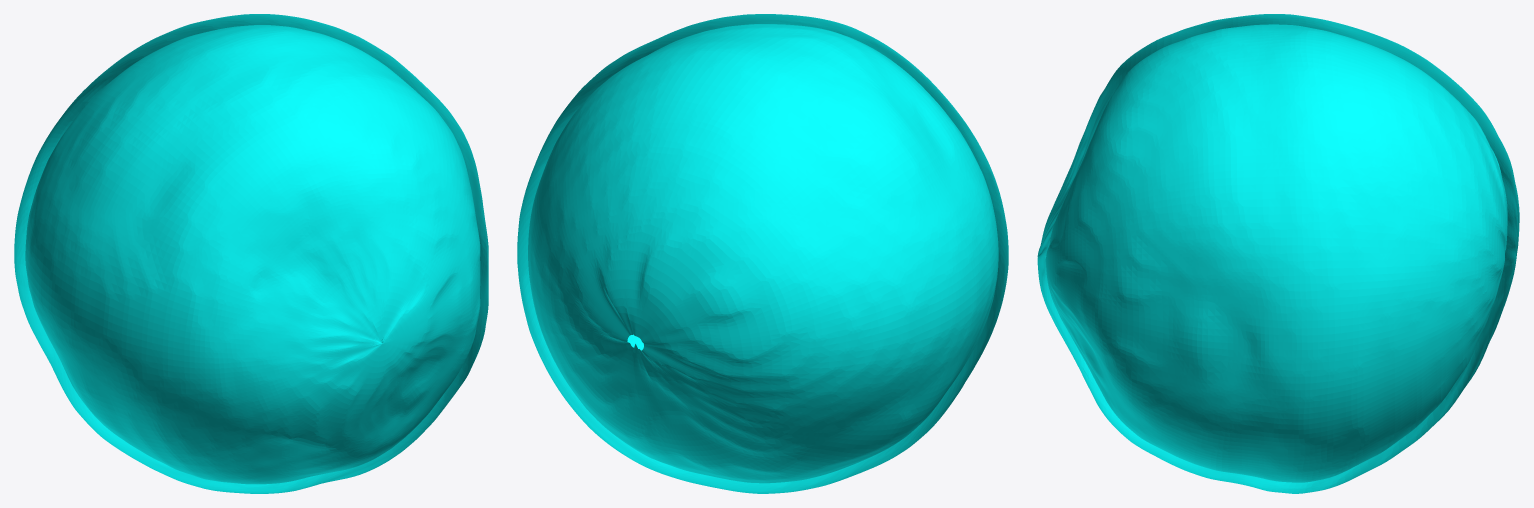
3 renders of one model, left to right at view 1: azimuth 30°, elevation 25°; view 2: azimuth 150°, elevation 25°; view 3: azimuth 270°, elevation 25°, orthographic.
Visible parts, largest first — view 1: Renderer Node; view 2: Renderer Node; view 3: Renderer Node.
Part boxes in pixels (x1=…): Renderer Node: x1=14, y1=14, x2=488, y2=493; Renderer Node: x1=517, y1=14, x2=1008, y2=493; Renderer Node: x1=1037, y1=14, x2=1519, y2=493.
Bounding box in the file's own units: 1.6e+15 × 1.58e+15 × 1.6e+15.
